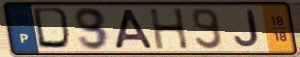9: (72, 6, 112, 52), (190, 7, 223, 51)
A: (113, 8, 157, 50)
D: (31, 6, 76, 52)
H: (147, 7, 191, 51)
J: (232, 9, 261, 49)
